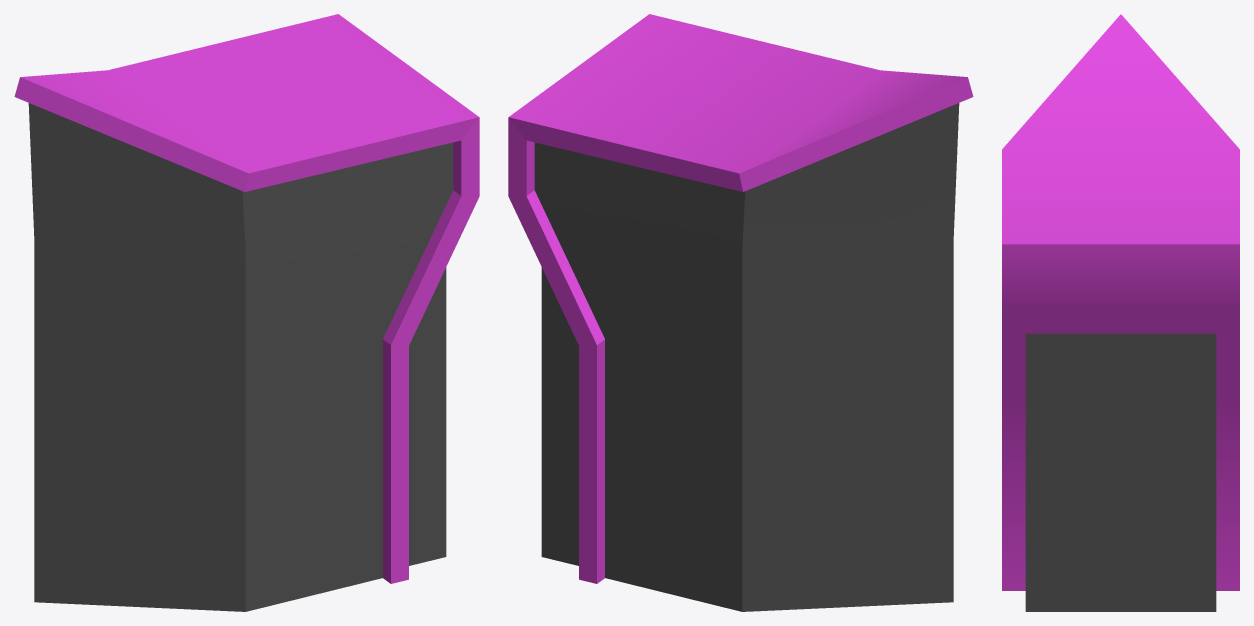
Rendered from building_3.fbx.
3 renders of one model, left to right at view 1: azimuth 30°, elevation 25°; view 2: azimuth 150°, elevation 25°; view 3: azimuth 270°, elevation 25°, orthographic. The views are drawn at different scales.
Parts seen in each view (by area): view 1: scifi_building_3, 3_detail; view 2: scifi_building_3, 3_detail; view 3: scifi_building_3, 3_detail.
Boxes of the visible parts, box(x1,y1,x2,y2) form: scifi_building_3: box(14, 14, 479, 611); 3_detail: box(409, 267, 446, 565); scifi_building_3: box(508, 14, 973, 611); 3_detail: box(541, 267, 578, 565); scifi_building_3: box(1002, 14, 1239, 590); 3_detail: box(1025, 333, 1216, 611).
Size of the model in its own units: 17.29 by 22.14 by 10.71.
